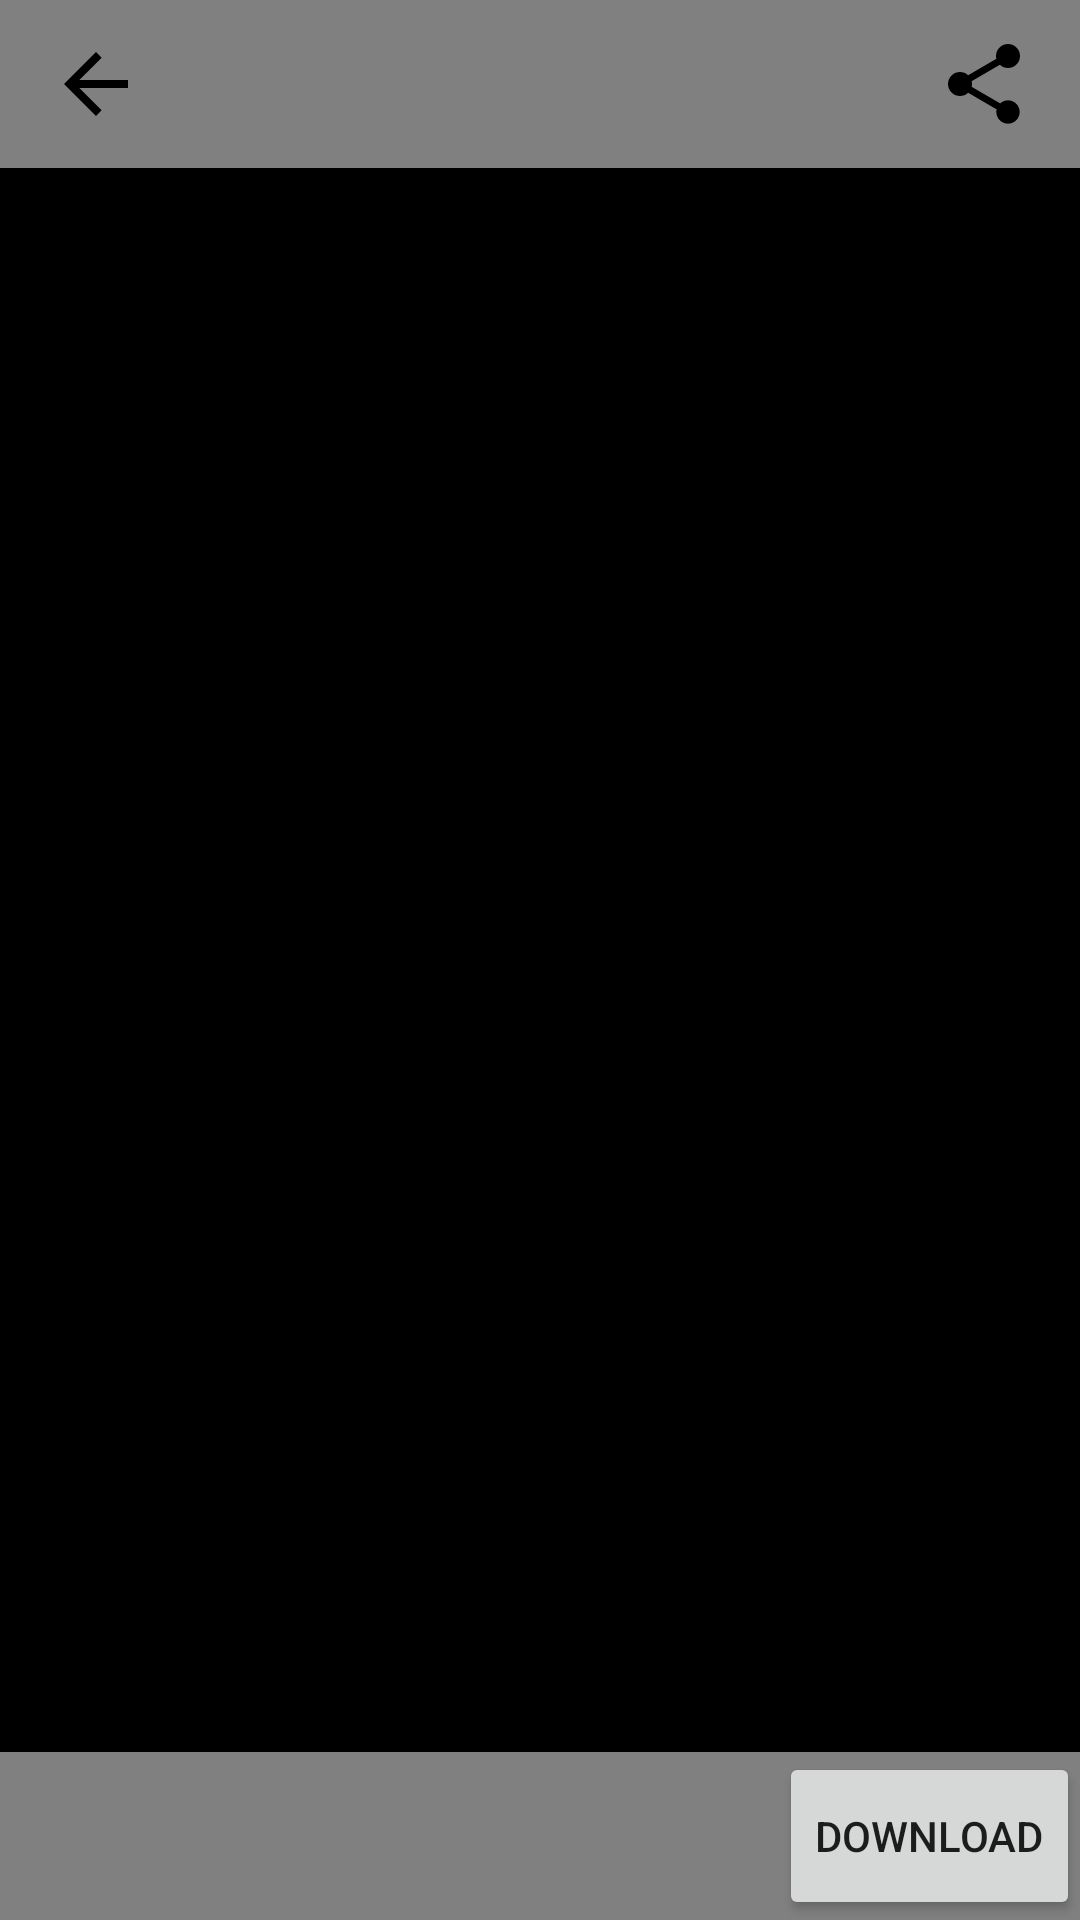

Locate icon controls on the screen. Image size 1080 × 1920, boxes as [x1,y1,x2,y2].
back: [64,52,128,116]
share: [948,44,1020,124]
